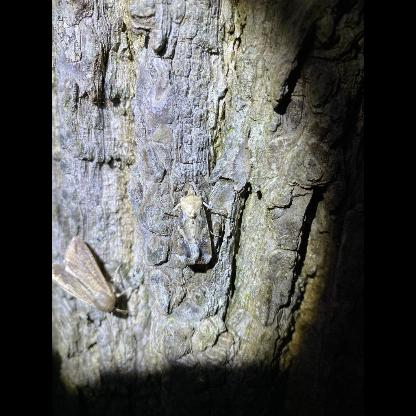Fall Armyworm Moth: (52, 235, 142, 326), (160, 165, 232, 267)
